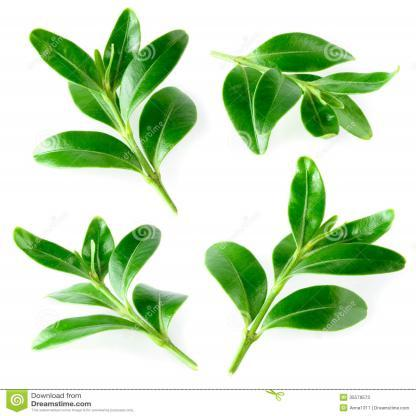Blueberry leaf: (218, 58, 292, 171), (116, 15, 188, 131), (197, 226, 276, 331), (26, 126, 148, 188), (97, 206, 162, 309), (247, 290, 381, 339), (130, 81, 198, 174), (246, 26, 374, 70), (25, 24, 100, 98), (132, 264, 190, 358), (6, 222, 90, 286), (299, 59, 412, 100), (286, 74, 346, 145)
